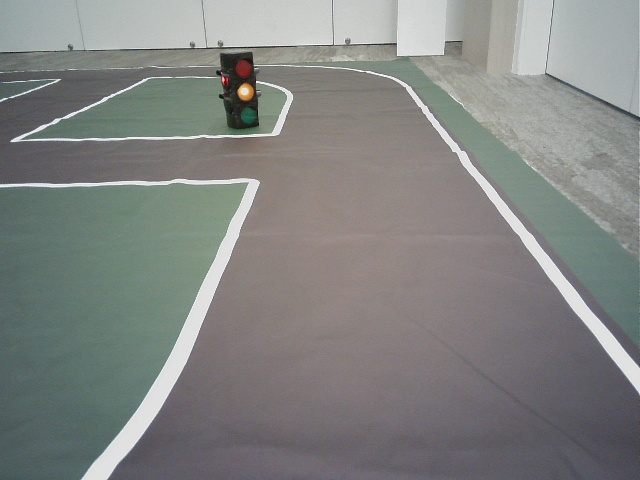yellow: (227, 55, 256, 125)
